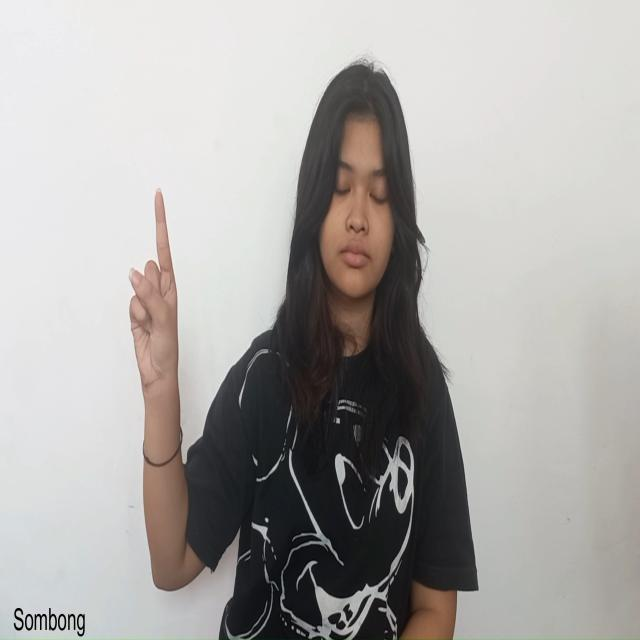Sombong -BISINDO-: (127, 185, 181, 399)
